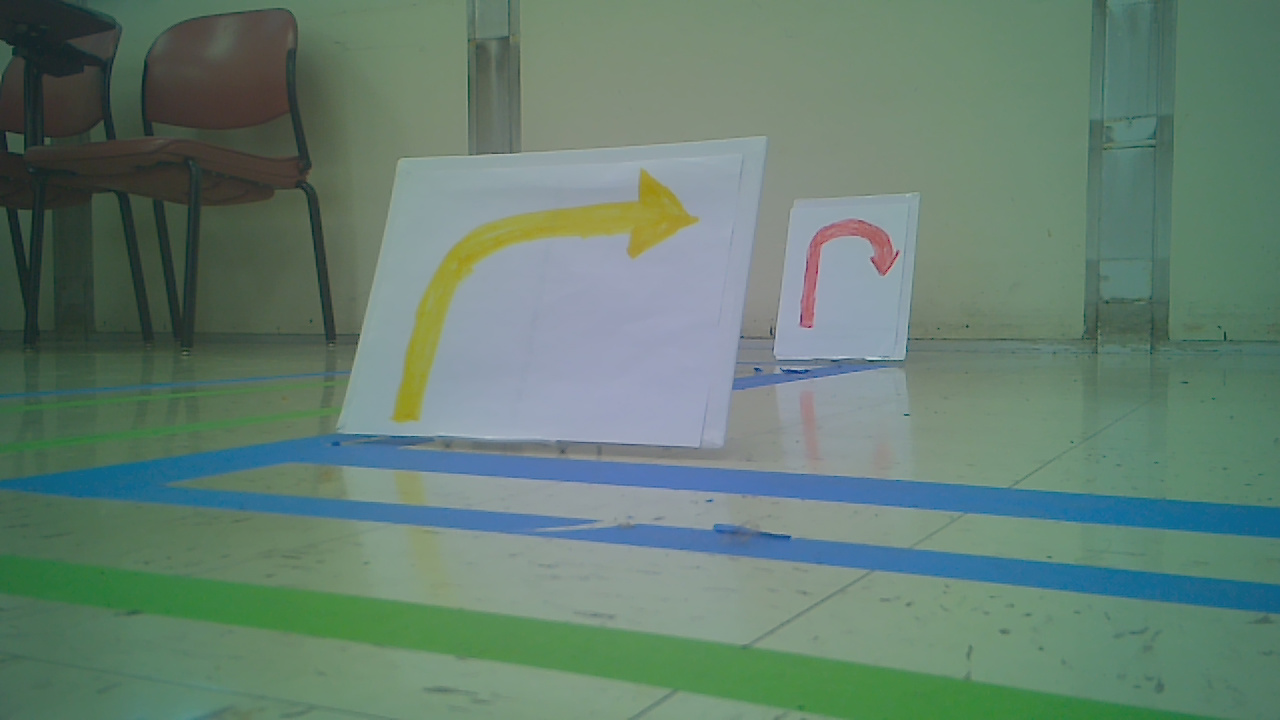greenline: (7, 552, 1203, 720)
right: (391, 159, 701, 428)
uturn: (795, 217, 902, 326)
